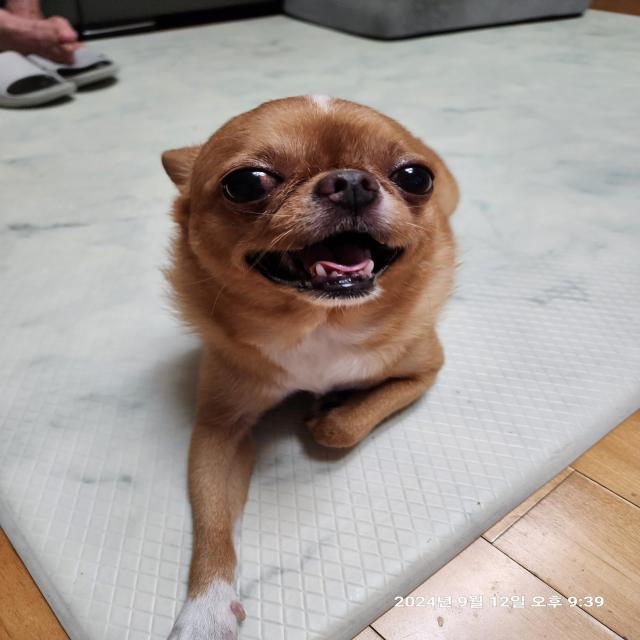dog-chihuahua: (160, 95, 459, 308)
